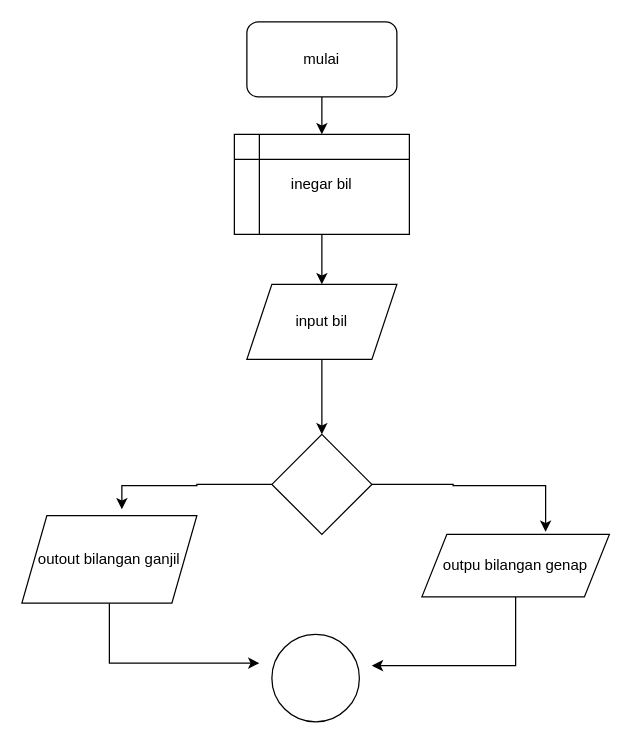
Some shapes in this 631 by 744 pixel diagram are drawn without their labels. The shapes that lost their labels are listed below. From the top down, each one's centre as x and y in pixels, then its label:
At [321,483]: "bil mod 2==0".
At [315,677]: "selesai".
